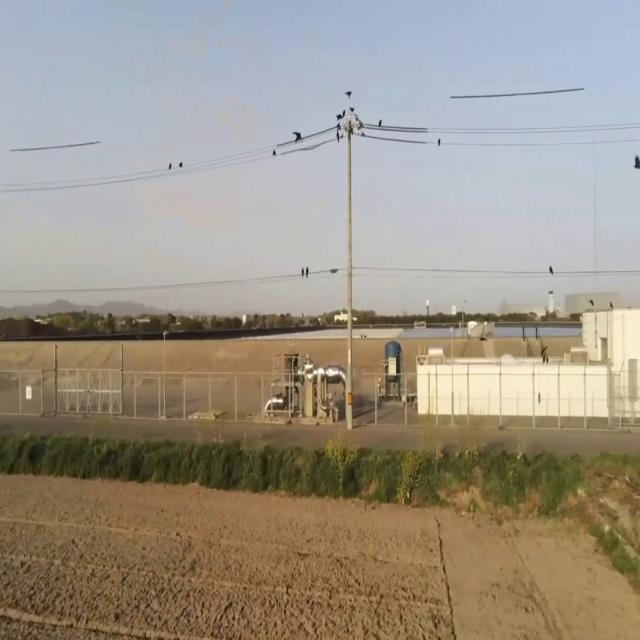bird: (293, 123, 302, 147), (633, 149, 640, 175), (541, 340, 547, 364), (550, 262, 554, 279), (305, 263, 309, 279), (178, 158, 182, 172), (273, 146, 276, 161), (169, 160, 172, 174), (438, 136, 441, 150), (302, 264, 304, 279)
